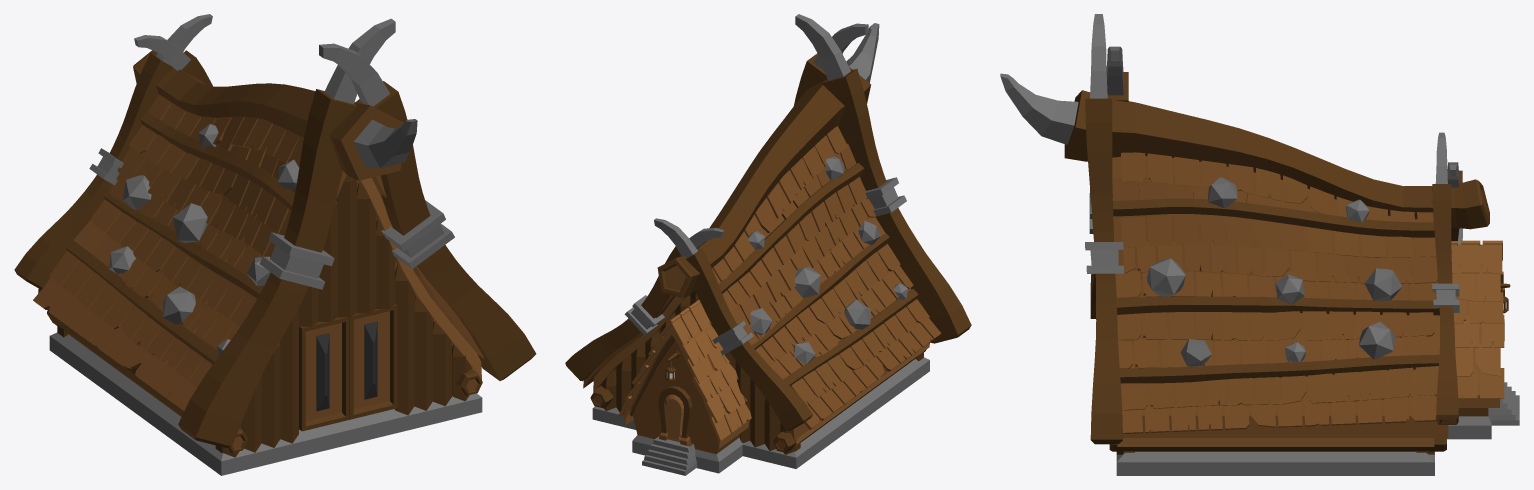
The model's file is B_Barn.fbx.
3 views of the same model, side by side, from view 1: azimuth 30°, elevation 25°; view 2: azimuth 150°, elevation 25°; view 3: azimuth 270°, elevation 25° (orthographic). The views are drawn at different scales.
Visible parts, largest first — view 1: B_Barn; view 2: B_Barn; view 3: B_Barn.
Part boxes in pixels (x1,y1,x2,y2): B_Barn: (14,14,536,475); B_Barn: (565,14,971,475); B_Barn: (1000,14,1519,475).
Size of the model in its own units: 645 by 750 by 918.
